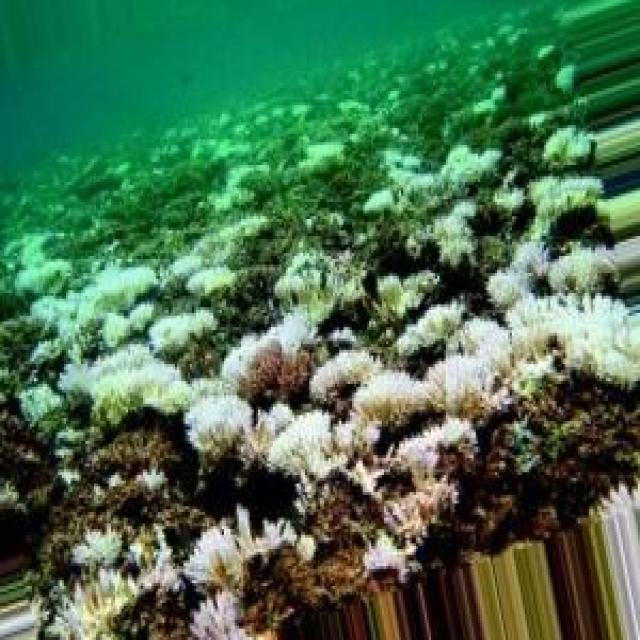bleached coral: (419, 242, 640, 418), (185, 380, 366, 479), (61, 343, 190, 424), (31, 267, 155, 344), (184, 507, 295, 592), (310, 350, 432, 426), (44, 568, 142, 638), (275, 250, 364, 324), (221, 315, 316, 384), (384, 145, 501, 191), (401, 200, 474, 268), (398, 417, 478, 476), (164, 233, 236, 298), (15, 235, 71, 296), (150, 308, 216, 356), (190, 590, 246, 640)
